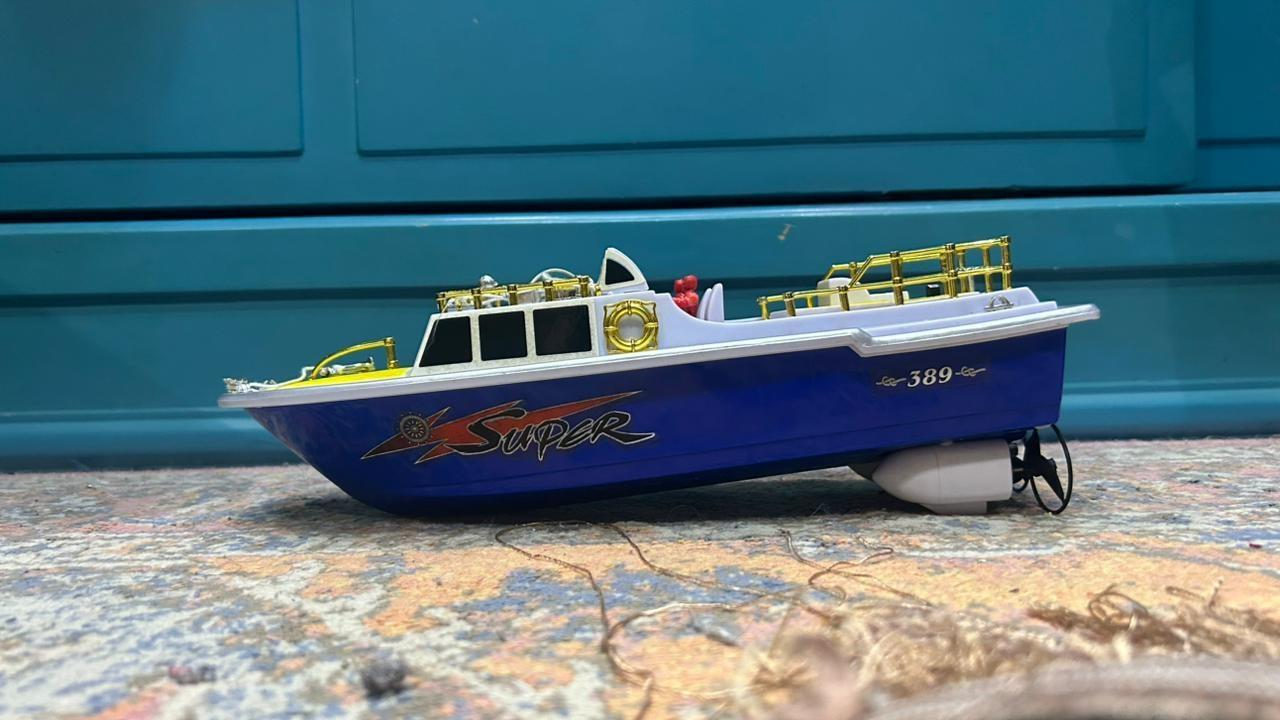Boat: (208, 230, 1112, 530)
